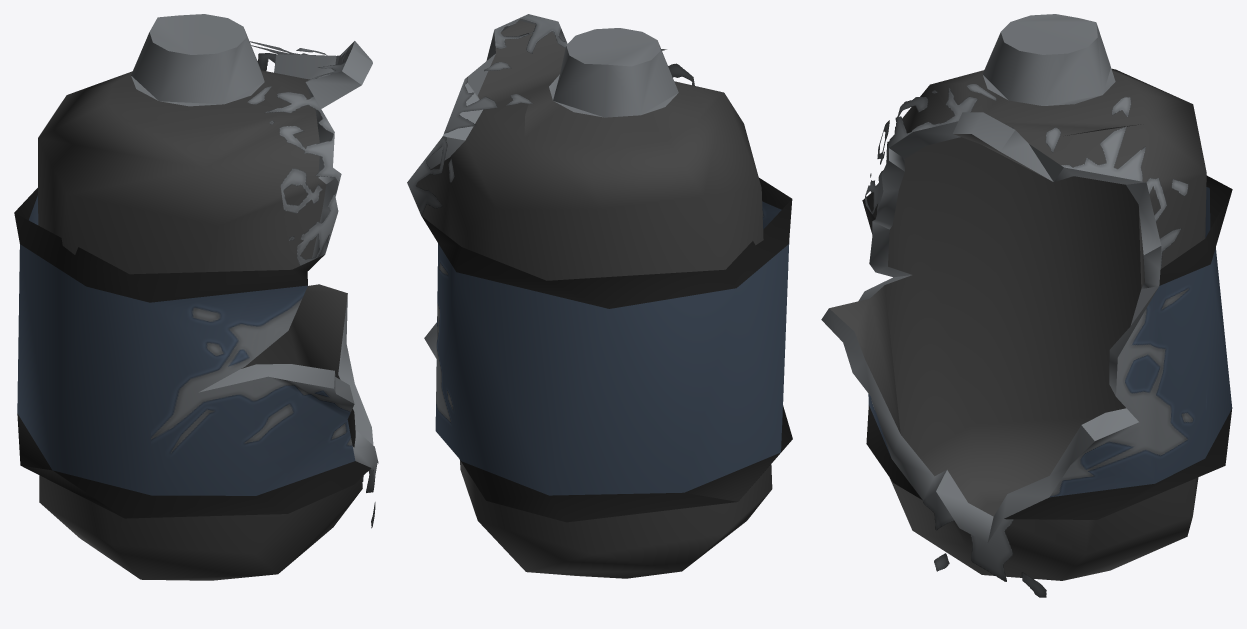
File: env_ruin_tank_02_lod2.fbx
The picture shows the model from 3 angles, left to right: view 1: azimuth 30°, elevation 25°; view 2: azimuth 150°, elevation 25°; view 3: azimuth 270°, elevation 25°; orthographic projection. The views are drawn at different scales.
Visible parts, largest first — view 1: env_ruin_tank_02_lod2; view 2: env_ruin_tank_02_lod2; view 3: env_ruin_tank_02_lod2.
Part boxes in pixels (bbox=[...]): env_ruin_tank_02_lod2: bbox=[14, 14, 378, 580]; env_ruin_tank_02_lod2: bbox=[407, 14, 792, 578]; env_ruin_tank_02_lod2: bbox=[821, 14, 1232, 597].
Size of the model in its own units: 36.79 by 57.09 by 39.72.
